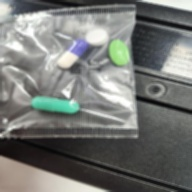러키펜정: (86, 29, 109, 47)
씨엠지세파클러캡슐: (56, 39, 90, 70)
에르도캡슐: (30, 96, 80, 115)
휴티렌정: (108, 40, 130, 68)
